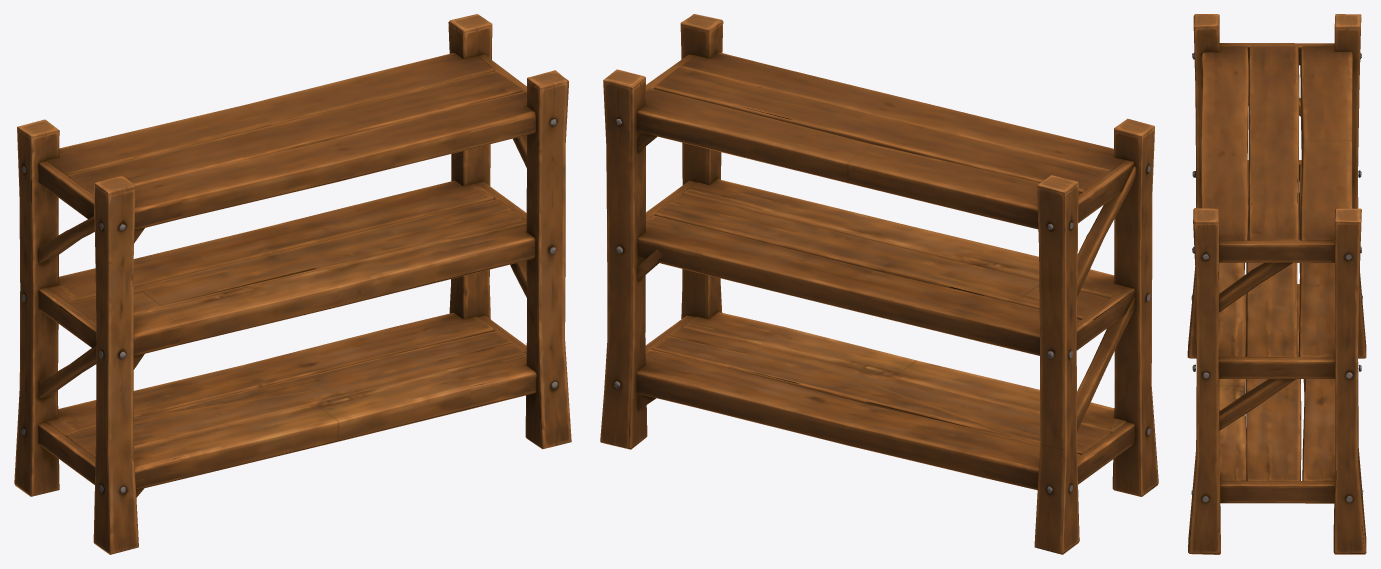
Rendered from shelf2.glb.
The picture shows the model from 3 angles, left to right: view 1: azimuth 30°, elevation 25°; view 2: azimuth 150°, elevation 25°; view 3: azimuth 270°, elevation 25°; orthographic projection. The views are drawn at different scales.
Visible parts, largest first — view 1: geometry_0; view 2: geometry_0; view 3: geometry_0.
Boxes of the visible parts, <box> form: geometry_0: <box>14,14,571,554</box>; geometry_0: <box>600,14,1158,554</box>; geometry_0: <box>1187,14,1366,554</box>.
Bounding box in the file's own units: 1 × 0.7497 × 0.3643.
1 material, 1 textured.
